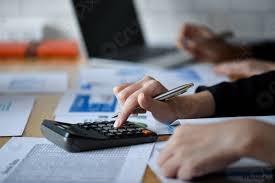Calculator: (40, 116, 160, 154)
